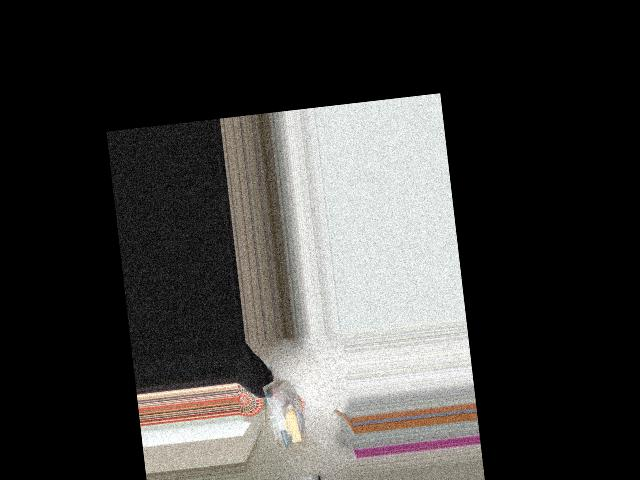cheese: (259, 378, 308, 449)
